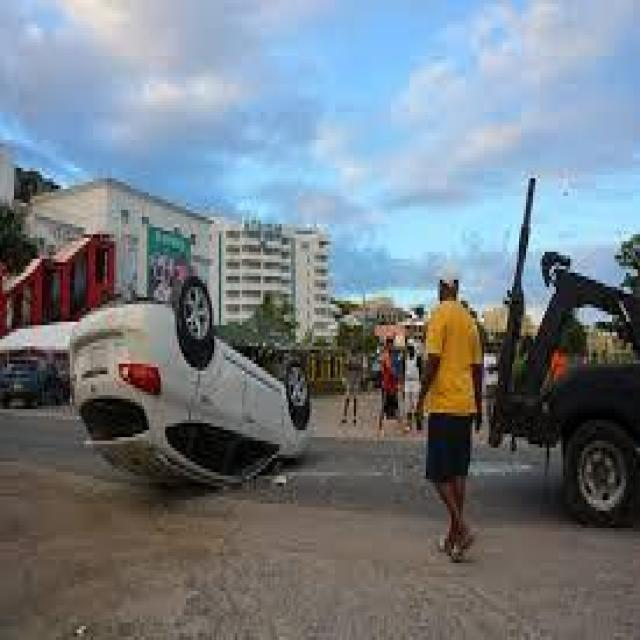severe: (63, 271, 319, 502)
